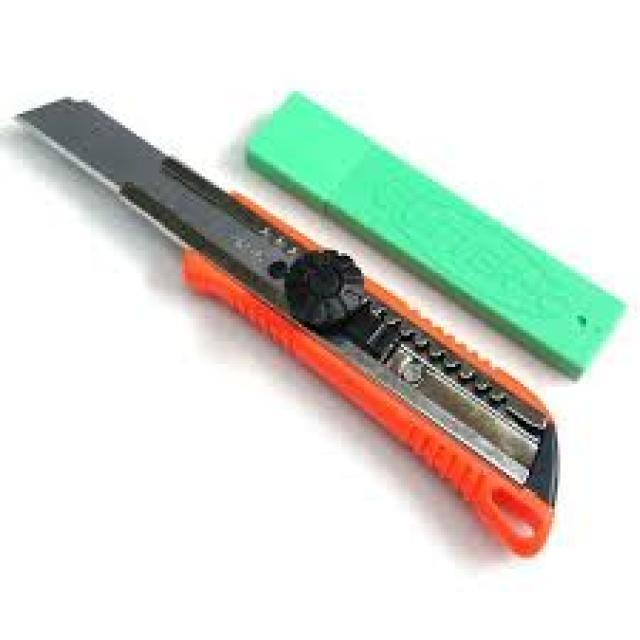cutter: (1, 82, 575, 566)
